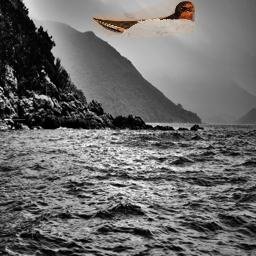Swallow: (93, 0, 195, 37)
